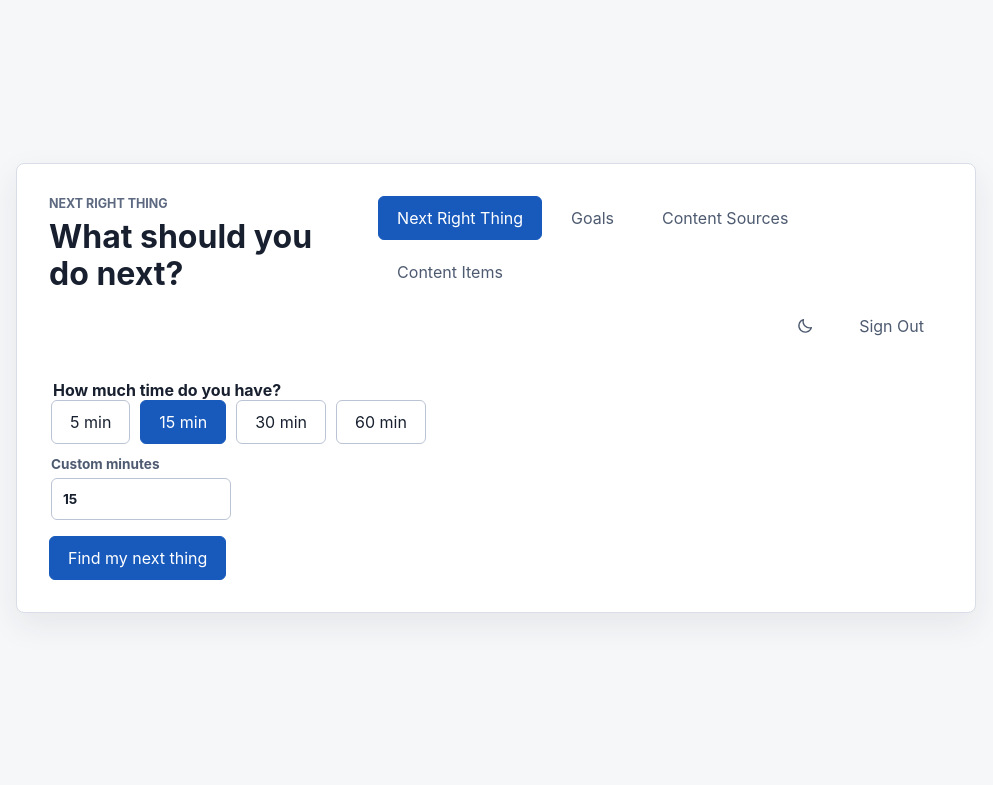
Test: RecommendationsPage › shows normal empty and error states
Click the button "Find my next thing" at (138, 558), box 49,536 -> 226,580
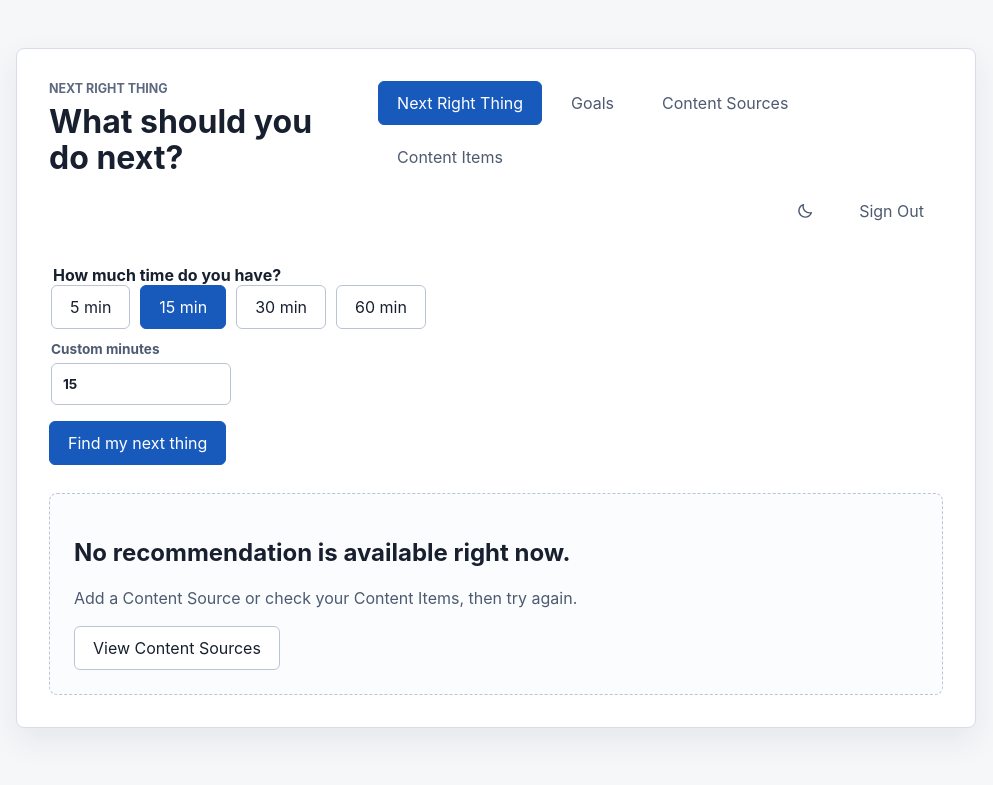
Check: the heading "No recommendation is available right now." is shown, box 74,538 -> 570,566
Click the button "Find my next thing" at (138, 443), box 49,421 -> 226,465
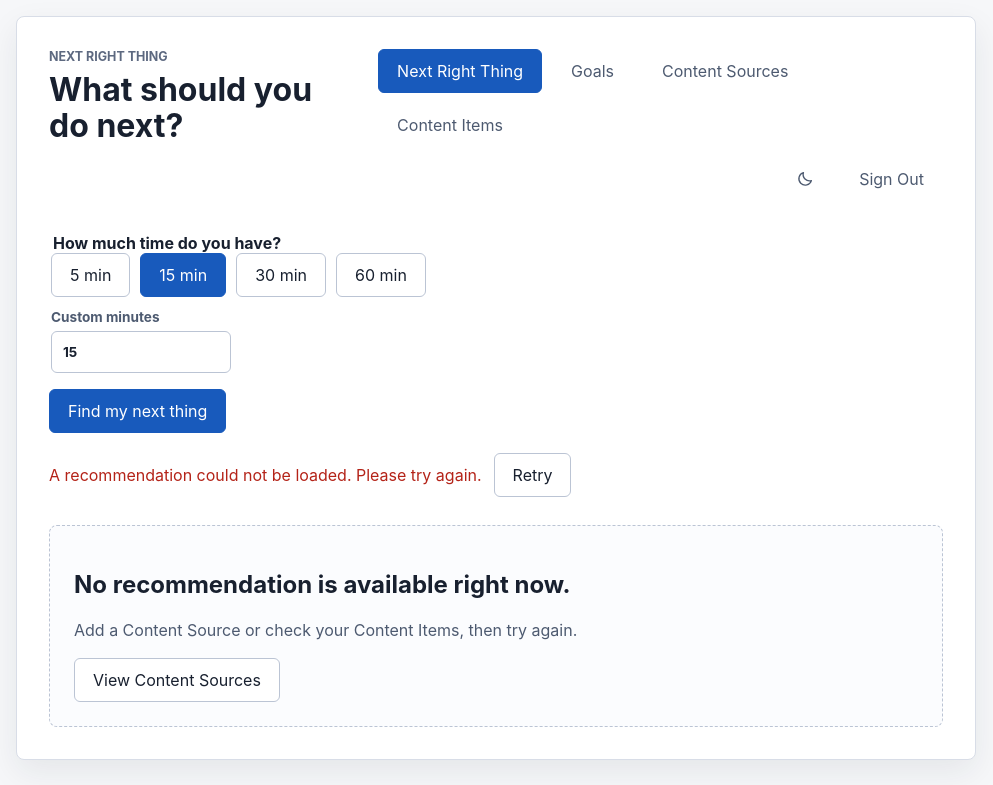
Check: the text "A recommendation could not be loaded. Please try again." is shown, box 49,465 -> 482,485
